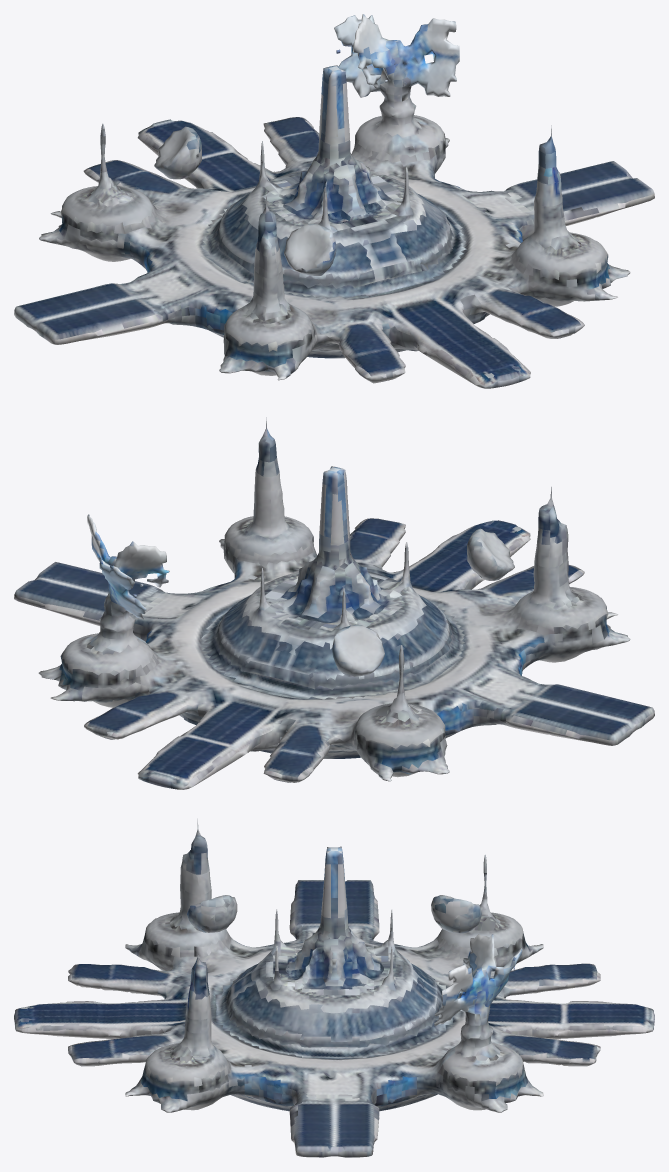
File: alliance_research_outpost.remesh.glb
The picture shows the model from 3 angles, top to bottom: view 1: azimuth 30°, elevation 25°; view 2: azimuth 150°, elevation 25°; view 3: azimuth 270°, elevation 25°; orthographic projection. The views are drawn at different scales.
Visible parts, largest first — view 1: model; view 2: model; view 3: model.
Part boxes in pixels (left/top/right/bottom): model: left=14, top=14, right=654, bottom=388; model: left=14, top=417, right=654, bottom=789; model: left=14, top=818, right=654, bottom=1157.
Bounding box in the file's own units: 1.87 × 0.7653 × 1.88.
1 material, 1 textured.
